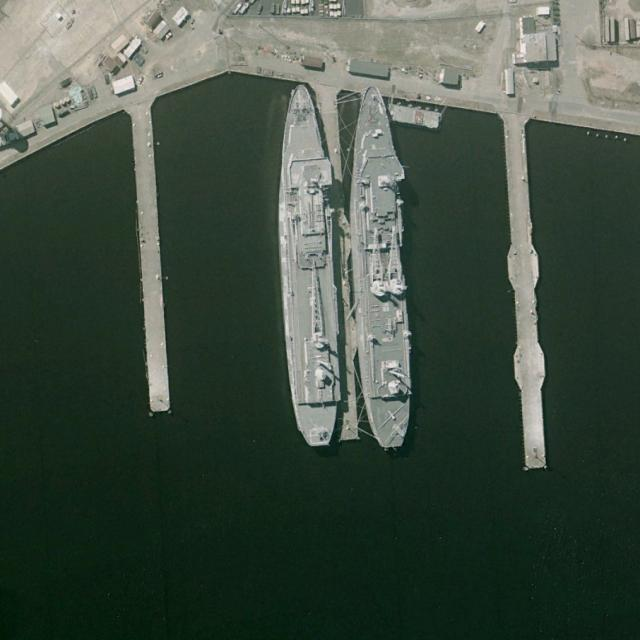Other Ship: (267, 80, 350, 449), (342, 81, 418, 450)
